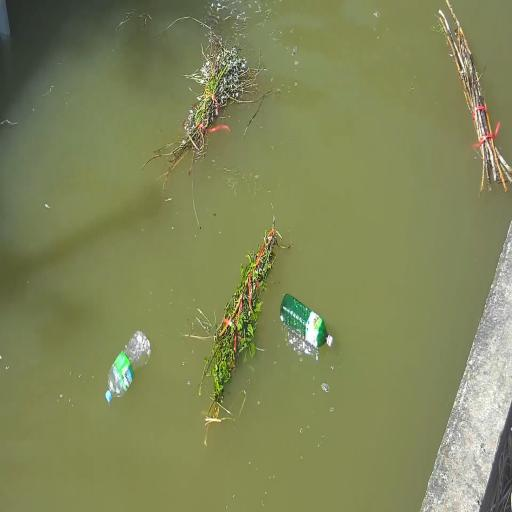plastic: (104, 332, 152, 406), (280, 292, 334, 354)
twig: (206, 229, 281, 416), (440, 2, 512, 191), (180, 36, 249, 176)
